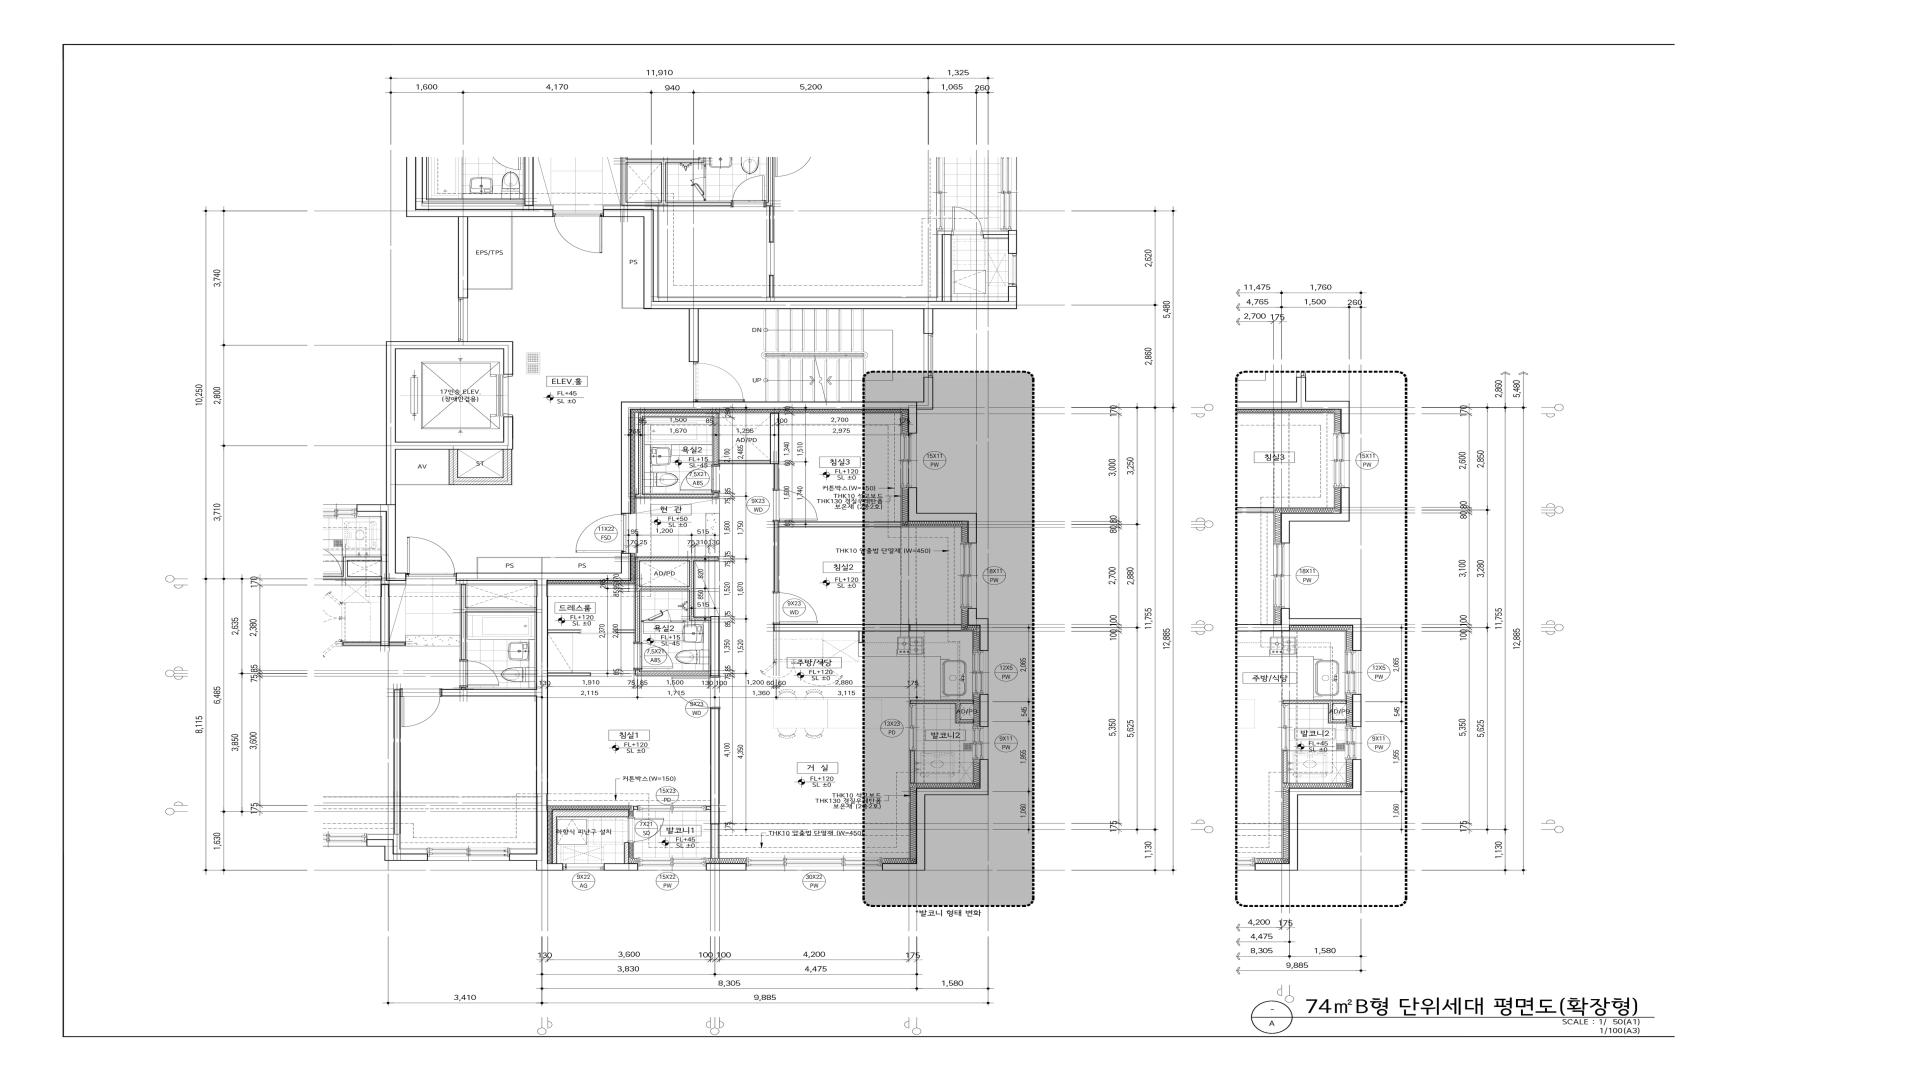door: (694, 363, 745, 402), (575, 514, 624, 553), (670, 676, 715, 708), (775, 489, 819, 521), (775, 592, 818, 622), (679, 465, 716, 492), (637, 644, 674, 669), (628, 818, 665, 841), (641, 608, 671, 622)
wall: (456, 553, 630, 870), (603, 208, 1017, 334), (621, 401, 918, 514), (386, 342, 513, 582), (882, 760, 989, 870), (907, 488, 977, 543), (709, 708, 720, 824), (406, 210, 553, 218), (773, 624, 910, 632), (968, 608, 989, 650), (458, 218, 468, 298), (778, 521, 902, 527), (549, 810, 633, 818), (688, 309, 699, 363), (916, 377, 934, 410), (634, 556, 641, 642), (711, 616, 720, 676), (636, 492, 719, 498), (448, 477, 513, 485), (770, 413, 779, 464), (773, 521, 779, 592), (910, 624, 961, 632), (636, 670, 711, 675), (638, 413, 642, 495), (711, 824, 720, 858), (640, 556, 719, 560), (980, 694, 989, 727), (642, 413, 719, 417), (705, 864, 746, 870), (713, 417, 719, 465), (448, 450, 458, 477), (502, 450, 512, 477), (910, 700, 973, 704), (690, 560, 694, 621), (621, 218, 624, 309), (604, 864, 638, 870), (719, 460, 770, 464), (773, 632, 779, 662), (640, 587, 690, 591), (476, 556, 621, 558), (510, 218, 513, 290), (910, 750, 915, 783), (547, 673, 591, 676), (774, 464, 779, 489), (547, 629, 580, 633), (624, 841, 629, 864), (615, 629, 634, 633), (956, 704, 960, 723), (396, 484, 448, 485), (694, 617, 711, 621), (467, 289, 512, 290), (960, 719, 973, 723), (671, 620, 687, 622), (476, 558, 479, 572), (541, 558, 543, 572), (622, 307, 644, 309), (633, 806, 638, 810), (705, 806, 711, 810)
window: (746, 857, 882, 870), (960, 543, 977, 608), (899, 434, 916, 488), (638, 857, 707, 870), (972, 650, 989, 694), (972, 727, 988, 760), (923, 334, 934, 377), (458, 298, 468, 342), (638, 806, 705, 812), (909, 704, 916, 750), (563, 864, 604, 870)
